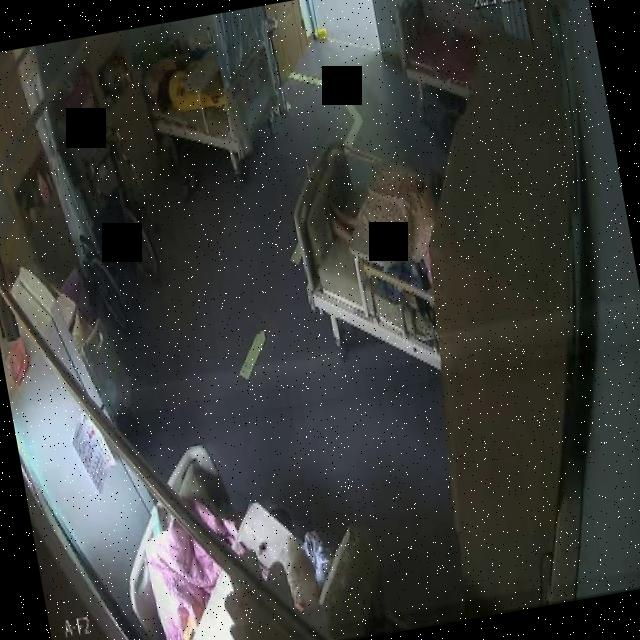bed: (104, 418, 379, 640), (279, 128, 444, 392), (143, 41, 291, 198), (385, 0, 473, 120)
